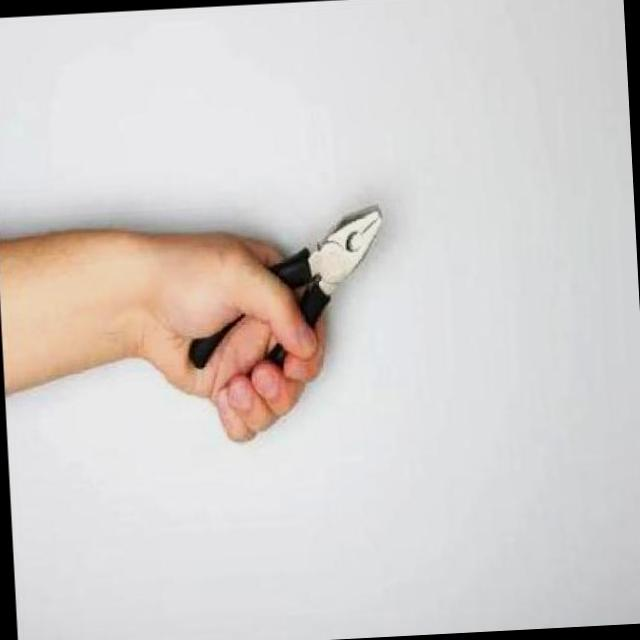pliers: (270, 206, 382, 326), (189, 314, 243, 368), (267, 345, 285, 365)
